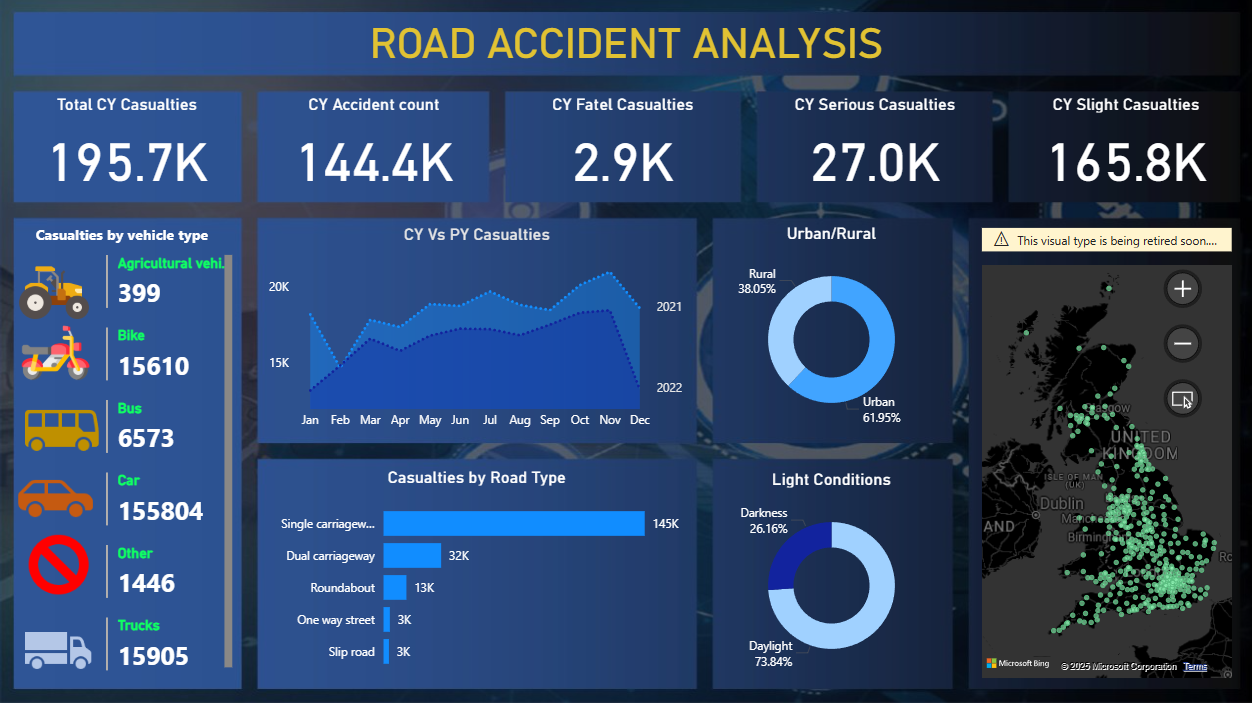

The dashboard page shown, as its layout file describes it:
{"tool":"powerbi","page":{"name":"Page 1","canvas":[1280,720],"ordinal":0},"visuals":[{"type":"card","title":"Total  CY Casualties","fields":{"Values":["Data.CY Casualties"]},"box":[17.5,96.3,224.7,106],"z":0},{"type":"card","title":"CY Accident count","fields":{"Values":["Data.CY Accident count"]},"box":[269.4,96.3,224.7,106],"z":1},{"type":"card","title":"CY Fatel Casualties","fields":{"Values":["Data.CY Casualties"]},"box":[520.4,96.3,230.5,106],"z":2},{"type":"card","title":"CY Serious Casualties","fields":{"Values":["Data.CY Casualties"]},"box":[781,96.3,224.7,106],"z":3},{"type":"card","title":"CY Slight Casualties","fields":{"Values":["Data.CY Casualties"]},"box":[1036.8,96.3,224.7,106],"z":4},{"type":"textbox","box":[17.5,14.6,1244,59.3],"z":5},{"type":"multiRowCard","fields":{"Values":["Data.Vehicle_Type (groups)","Data.CY Casualties"]},"box":[103.1,254.8,139.1,442.6],"z":6},{"type":"image","box":[16.5,621.5,86.6,83.6],"z":7},{"type":"image","box":[9.7,460.1,93.4,96.3],"z":8},{"type":"image","box":[9.7,320,93.4,78.8],"z":9},{"type":"image","box":[16.5,532,86.6,89.5],"z":10},{"type":"image","box":[6.8,392.9,111.9,92.4],"z":11},{"type":"image","box":[6.8,254.8,96.3,85.6],"z":12},{"type":"textbox","box":[17.4,223.5,214.4,31.6],"z":13},{"type":"areaChart","title":"CY Vs PY Casualties","fields":{"Category":["Calender.Month"],"Y":["Sum(Data.Number_of_Casualties)"],"Series":["Calender.Date.Variation.Date Hierarchy.Year"]},"box":[269.4,228.6,434.8,217.9],"z":14},{"type":"donutChart","title":"Urban/Rural","fields":{"Category":["Data.Urban_or_Rural_Area"],"Y":["Data.CY Casualties"]},"box":[735.3,227.6,227.6,218.8],"z":15},{"type":"donutChart","title":"Light Conditions","fields":{"Y":["Data.CY Casualties"],"Category":["Data.Light_Conditions (groups)"]},"box":[735.3,478.5,227.6,218.8],"z":16},{"type":"barChart","title":"Casualties by Road Type","fields":{"Category":["Data.Road_Type"],"Y":["Data.CY Casualties"]},"box":[269.4,476.6,434.8,219.8],"z":17},{"type":"map","fields":{"X":["Data.Longitude"],"Y":["Data.Latitude"],"Category":["Data.Local_Authority_(District)"]},"box":[997,227.6,264.6,468.8],"z":18}]}

Visuals, with their boxes in screenshot pixels (x1, y1, x2, y2), scaled from the page's 1280x720 canvas onto the 1252x703 screenshot:
"Total  CY Casualties" card: left=17, top=94, right=237, bottom=198
"CY Accident count" card: left=264, top=94, right=483, bottom=198
"CY Fatel Casualties" card: left=509, top=94, right=734, bottom=198
"CY Serious Casualties" card: left=764, top=94, right=984, bottom=198
"CY Slight Casualties" card: left=1014, top=94, right=1234, bottom=198
textbox: left=17, top=14, right=1234, bottom=72
multiRowCard - Data.Vehicle_Type (groups) x Data.CY Casualties: left=101, top=249, right=237, bottom=681
image: left=16, top=607, right=101, bottom=688
image: left=9, top=449, right=101, bottom=543
image: left=9, top=312, right=101, bottom=389
image: left=16, top=519, right=101, bottom=607
image: left=7, top=384, right=116, bottom=474
image: left=7, top=249, right=101, bottom=332
textbox: left=17, top=218, right=227, bottom=249
"CY Vs PY Casualties" areaChart: left=264, top=223, right=689, bottom=436
"Urban/Rural" donutChart: left=719, top=222, right=942, bottom=436
"Light Conditions" donutChart: left=719, top=467, right=942, bottom=681
"Casualties by Road Type" barChart: left=264, top=465, right=689, bottom=680
map - Data.Longitude x Data.Latitude: left=975, top=222, right=1234, bottom=680
